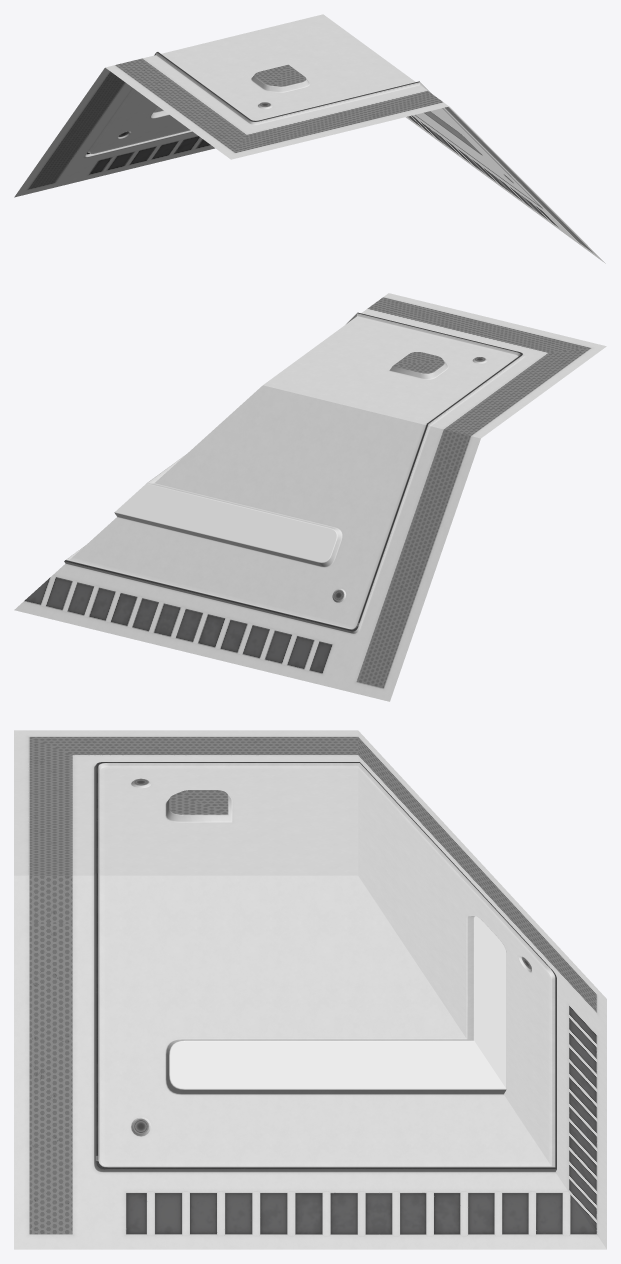
File: SM_MCeiling03-2-350x350-Corner2.FBX
The picture shows the model from 3 angles, top to bottom: view 1: azimuth 30°, elevation 25°; view 2: azimuth 150°, elevation 25°; view 3: azimuth 270°, elevation 25°; orthographic projection. The views are drawn at different scales.
Visible parts, largest first — view 1: SM_MCeiling03-2-350x350-Corner2; view 2: SM_MCeiling03-2-350x350-Corner2; view 3: SM_MCeiling03-2-350x350-Corner2.
Part boxes in pixels (x1,y1,x2,y2): SM_MCeiling03-2-350x350-Corner2: (14,14,605,263); SM_MCeiling03-2-350x350-Corner2: (14,293,606,701); SM_MCeiling03-2-350x350-Corner2: (14,730,606,1249).
Size of what is drawn, in the model's own units: 350 by 350 by 179.
